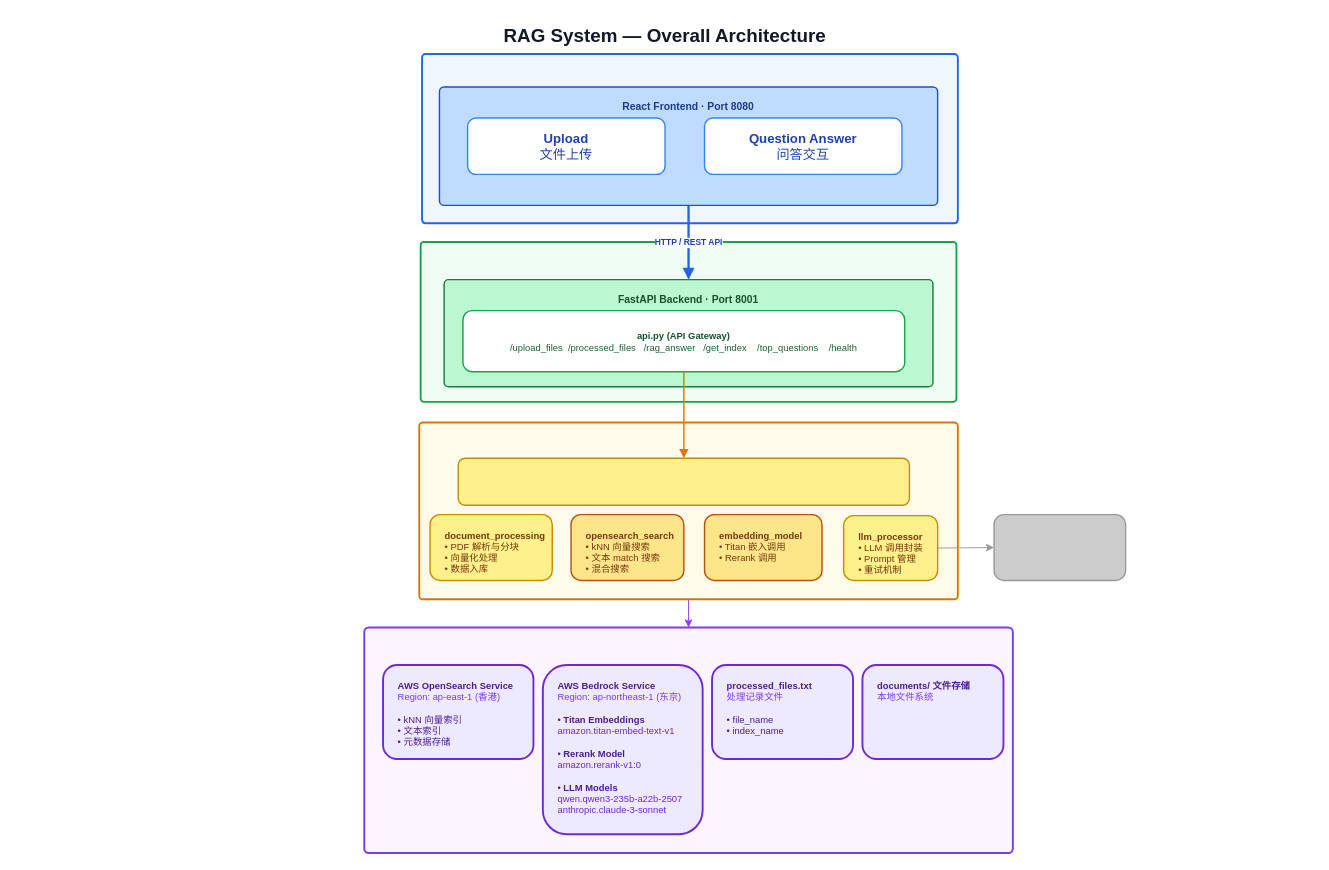
Image size: 1329x870. Some labels were removed from this diagram. Each missing label, with the box of its shape:
llm_gateway • 境外大模型网关: (993, 514, 1126, 581)
RAG_System • RAG 流程编排 • 上下文格式化 • 结果聚合: (457, 457, 910, 506)
业务逻辑层 / Business Logic Layer: (418, 421, 958, 600)
数据层 / Data Layer: (363, 626, 1013, 854)
服务层 / Service Layer: (419, 241, 957, 402)
用户层 / User Layer: (421, 53, 958, 224)
